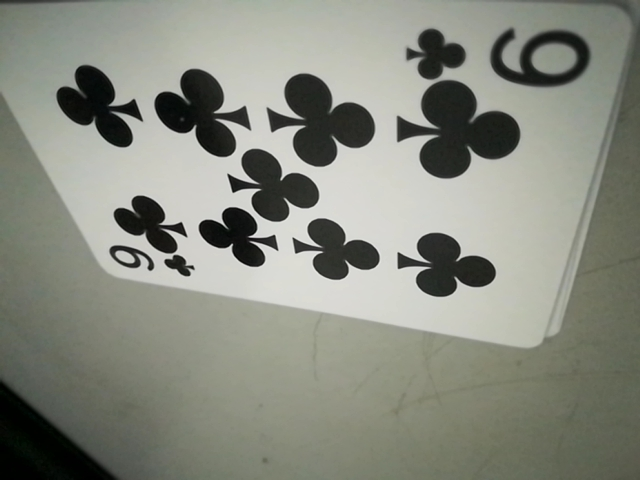mh 9: (403, 16, 598, 87), (103, 245, 201, 283)
